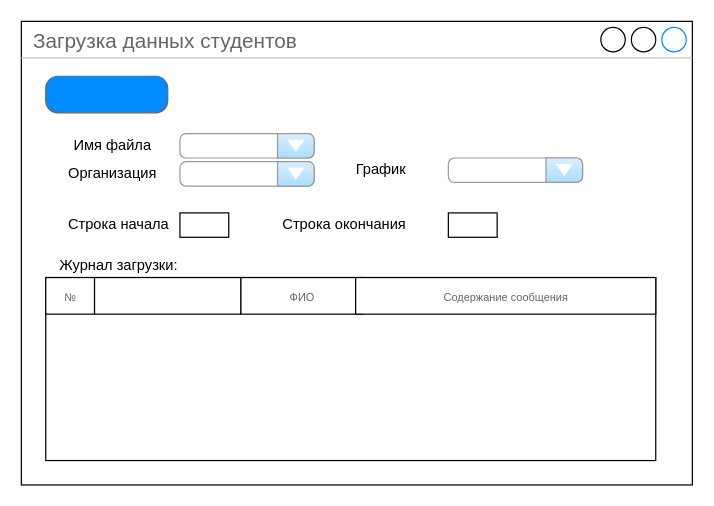
Image size: 714x506. Some labels were removed from this diagram. The shapes that lost their labels are listed below. From the top down, each one's centre as x and y in pixels, then its label:
At point 106,94: "Загрузить".
At point 167,295: "Номер строки файла".
